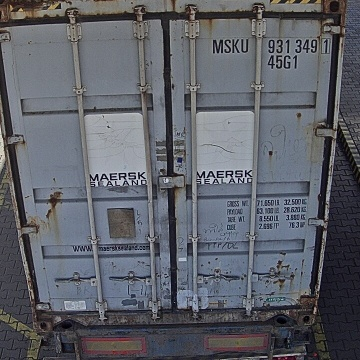serial_id: (213, 38, 330, 53)
